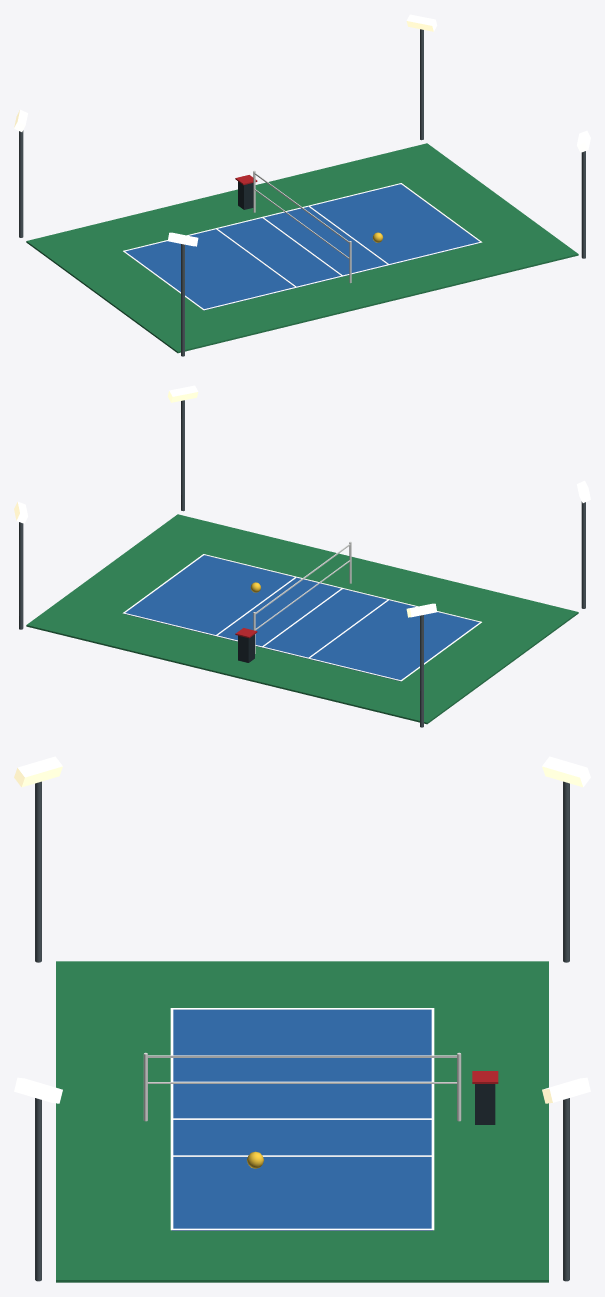
The model's file is volleyball-court.glb.
The picture shows the model from 3 angles, top to bottom: view 1: azimuth 30°, elevation 25°; view 2: azimuth 150°, elevation 25°; view 3: azimuth 270°, elevation 25°; orthographic projection. The views are drawn at different scales.
Parts seen in each view (by area): view 1: object 1, object 2, object 23, object 17, object 4, object 19, object 3; view 2: object 1, object 2, object 21, object 19, object 3, object 17; view 3: object 1, object 2, object 21, object 23, object 17, object 19, object 18, object 20, object 12, object 3, object 4, object 14 (+3 smaller).
Boxes of the visible parts, x1,y1,x2,y2 form: object 1: (26, 143, 578, 353); object 2: (125, 184, 479, 310); object 23: (581, 151, 585, 258); object 17: (19, 130, 23, 237); object 4: (204, 241, 482, 310); object 19: (181, 244, 184, 356); object 3: (123, 183, 401, 251); object 1: (26, 514, 578, 724); object 2: (125, 555, 479, 681); object 21: (19, 522, 23, 629); object 19: (581, 501, 585, 608); object 3: (123, 612, 400, 680); object 17: (420, 615, 423, 727); object 1: (56, 961, 548, 1282); object 2: (172, 1009, 432, 1230); object 21: (563, 1098, 569, 1281); object 23: (35, 1098, 41, 1281); object 17: (563, 781, 569, 962); object 19: (35, 781, 41, 962); object 18: (542, 756, 590, 787); object 20: (14, 756, 62, 787); object 12: (147, 1055, 457, 1057); object 3: (431, 1008, 434, 1230); object 4: (170, 1008, 173, 1230); object 14: (475, 1084, 495, 1124).
Bounding box in the file's own units: 27.46 × 7.63 × 19.89.
